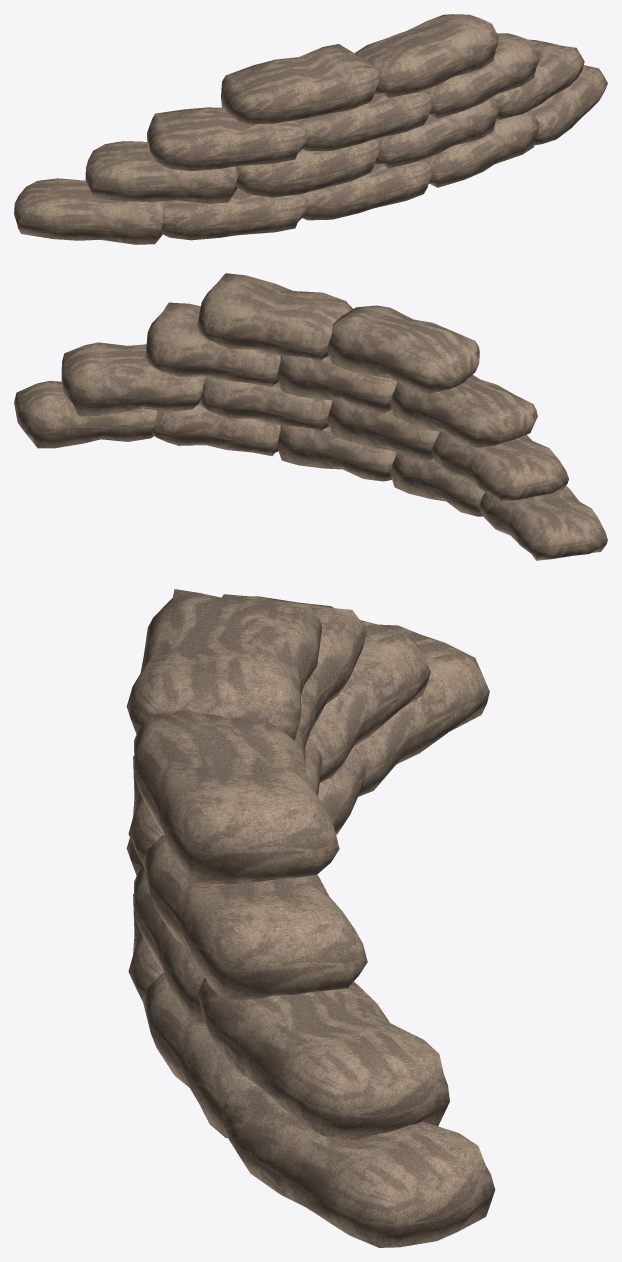
File: sandbag_pile.fbx
3 renders of one model, top to bottom at view 1: azimuth 30°, elevation 25°; view 2: azimuth 150°, elevation 25°; view 3: azimuth 270°, elevation 25°, orthographic. The views are drawn at different scales.
Visible parts, largest first — view 1: sandbag_pile; view 2: sandbag_pile; view 3: sandbag_pile.
Part boxes in pixels (<box>): sandbag_pile: <box>14,14,607,244</box>; sandbag_pile: <box>14,273,607,560</box>; sandbag_pile: <box>126,589,495,1247</box>.
Size of the model in its own units: 7.22 by 1.8 by 1.96.
